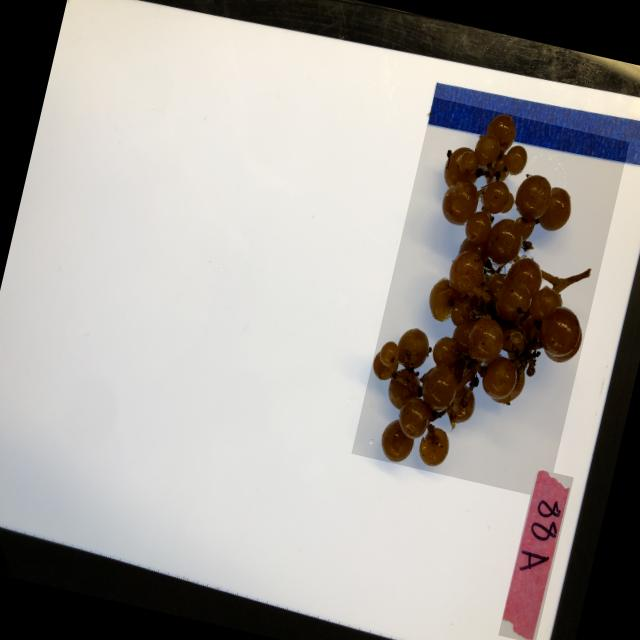grape_cluster: (350, 96, 628, 498)
index: (497, 468, 572, 640)
measure_label: (425, 74, 640, 175)
